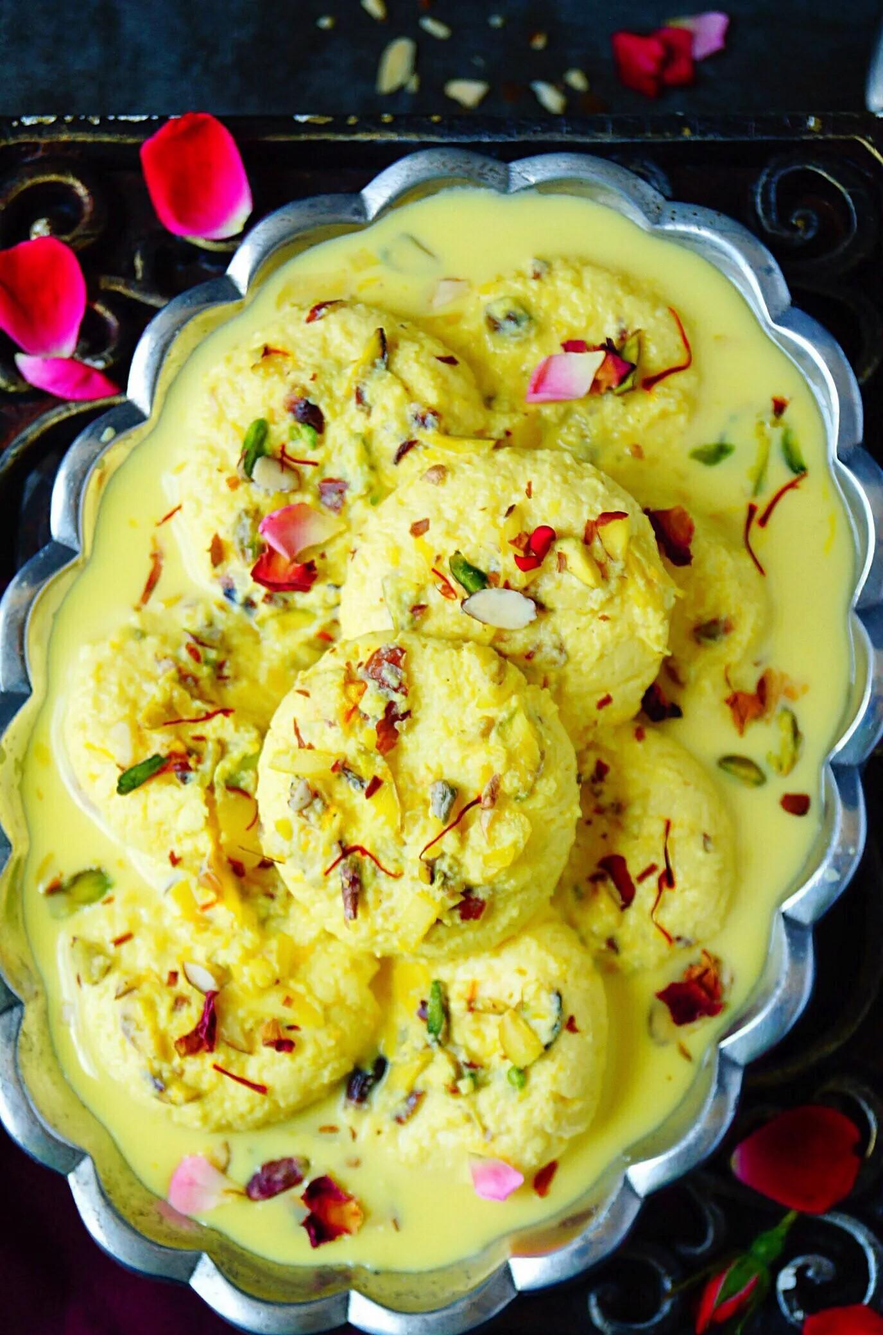RasMalai: (15, 184, 848, 1265)
